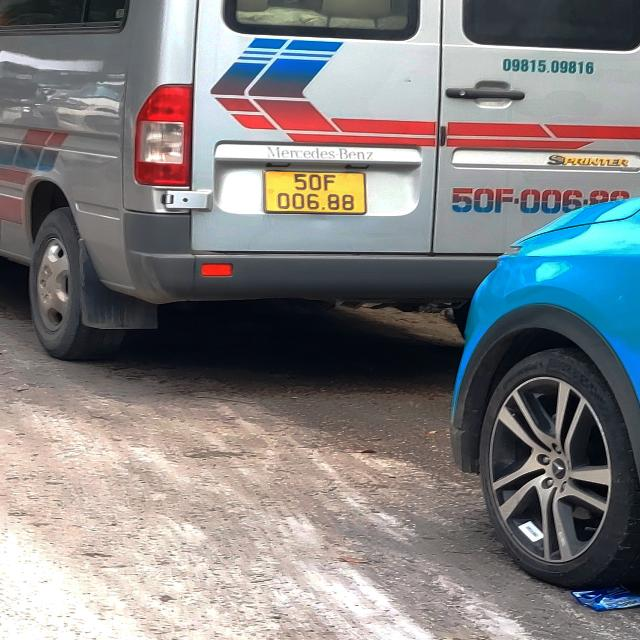license_plate: (261, 172, 373, 217)
